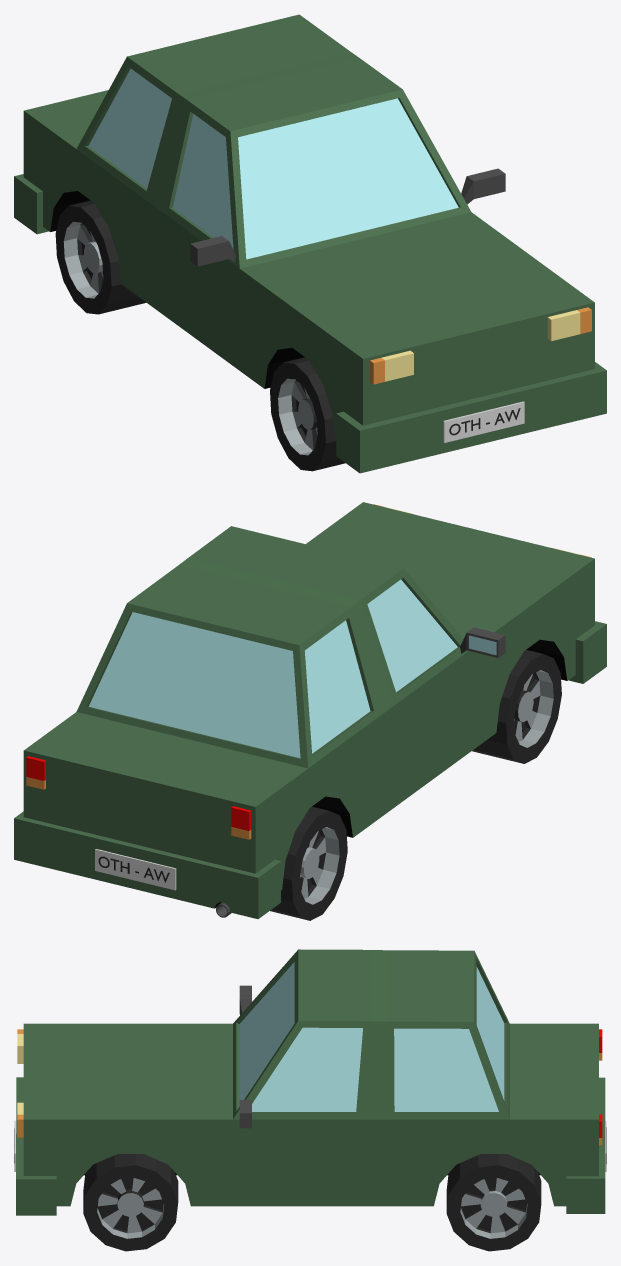
Rendered from car.fbx.
3 views of the same model, one above another, from view 1: azimuth 30°, elevation 25°; view 2: azimuth 150°, elevation 25°; view 3: azimuth 270°, elevation 25° (orthographic). The views are drawn at different scales.
Visible parts, largest first — view 1: Cube, Cylinder.003, Cylinder.001, Cube.004, Cube.003, Cube.005; view 2: Cube, Cylinder.001, Cylinder.003, Cube.006, Cube.007, Cube.003; view 3: Cube, Cylinder.001, Cylinder.003, Cube.003, Cube.004.
Part boxes in pixels (box(x1,y1,x2,y2)): Cube: box(14, 14, 606, 473); Cylinder.003: box(55, 200, 146, 314); Cylinder.001: box(270, 357, 345, 471); Cube.004: box(370, 307, 591, 384); Cube.003: box(190, 168, 505, 266); Cube.005: box(443, 401, 524, 442); Cube: box(14, 502, 606, 918); Cylinder.001: box(472, 649, 561, 763); Cylinder.003: box(270, 806, 347, 920); Cube.006: box(95, 849, 176, 890); Cube.007: box(26, 756, 251, 839); Cube.003: box(459, 627, 505, 657); Cube: box(16, 949, 605, 1215); Cylinder.001: box(83, 1154, 178, 1251); Cylinder.003: box(446, 1154, 541, 1251); Cube.003: box(239, 985, 251, 1128); Cube.004: box(17, 1029, 23, 1137).
Size of the model in its own units: 292 by 232 by 575.
